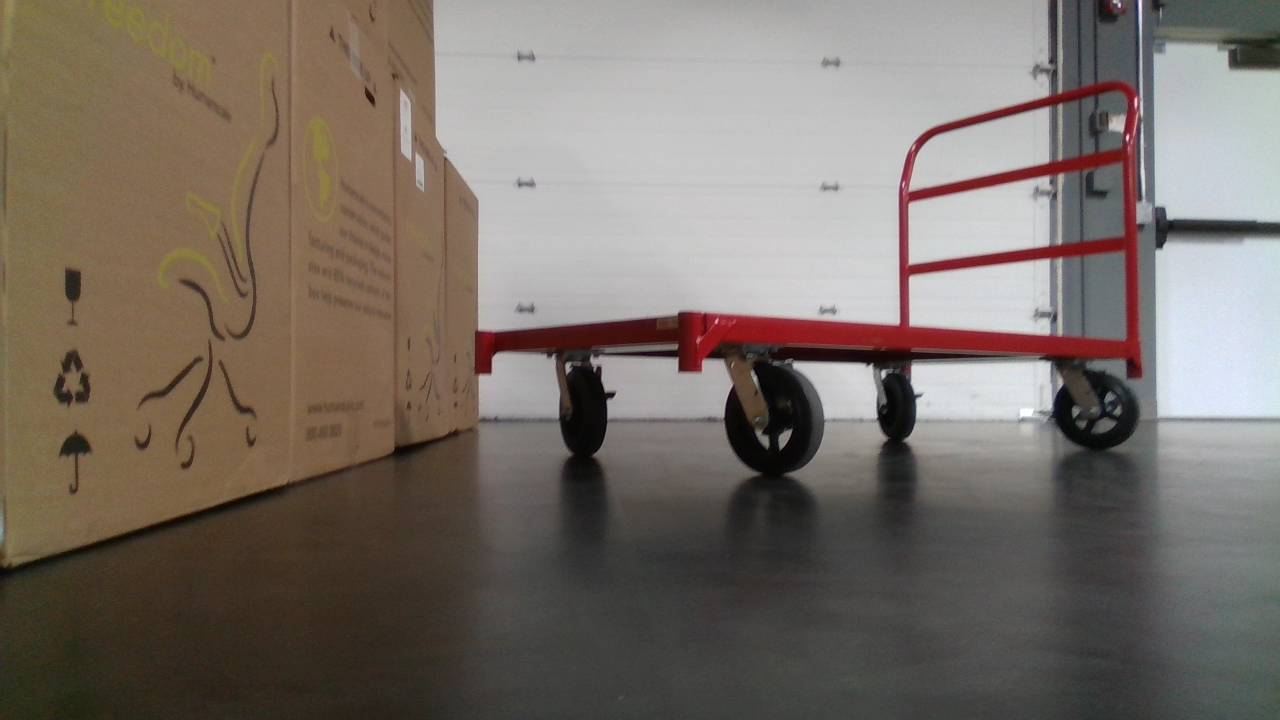Dolly: (475, 80, 1146, 481)
Wheel: (724, 361, 826, 477), (1052, 366, 1144, 449), (554, 357, 614, 456), (871, 360, 922, 444)
